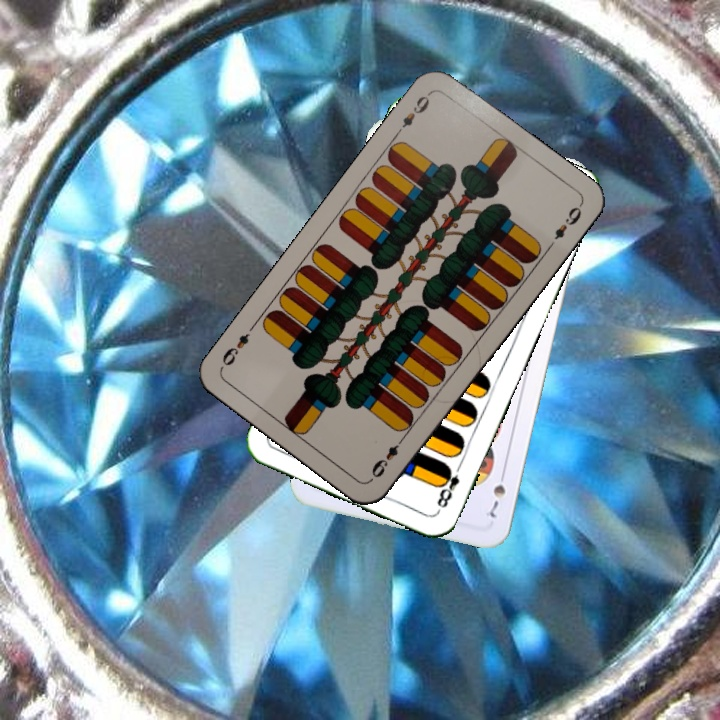E8: (433, 458, 465, 511)
E9: (392, 88, 434, 138), (367, 432, 408, 483)
S7: (484, 465, 509, 522)
